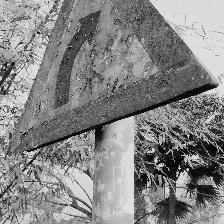Right-turn: (9, 1, 219, 153)
